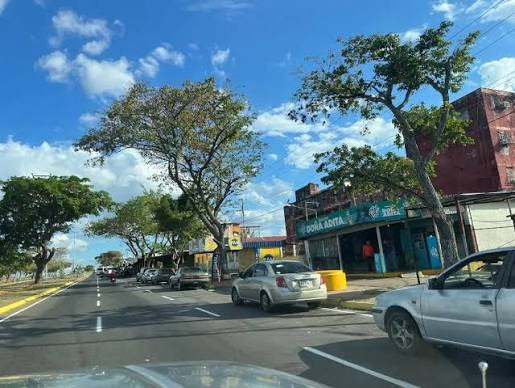car: (374, 243, 513, 374), (230, 258, 326, 312), (231, 258, 326, 311), (141, 265, 212, 291), (139, 263, 185, 288)
